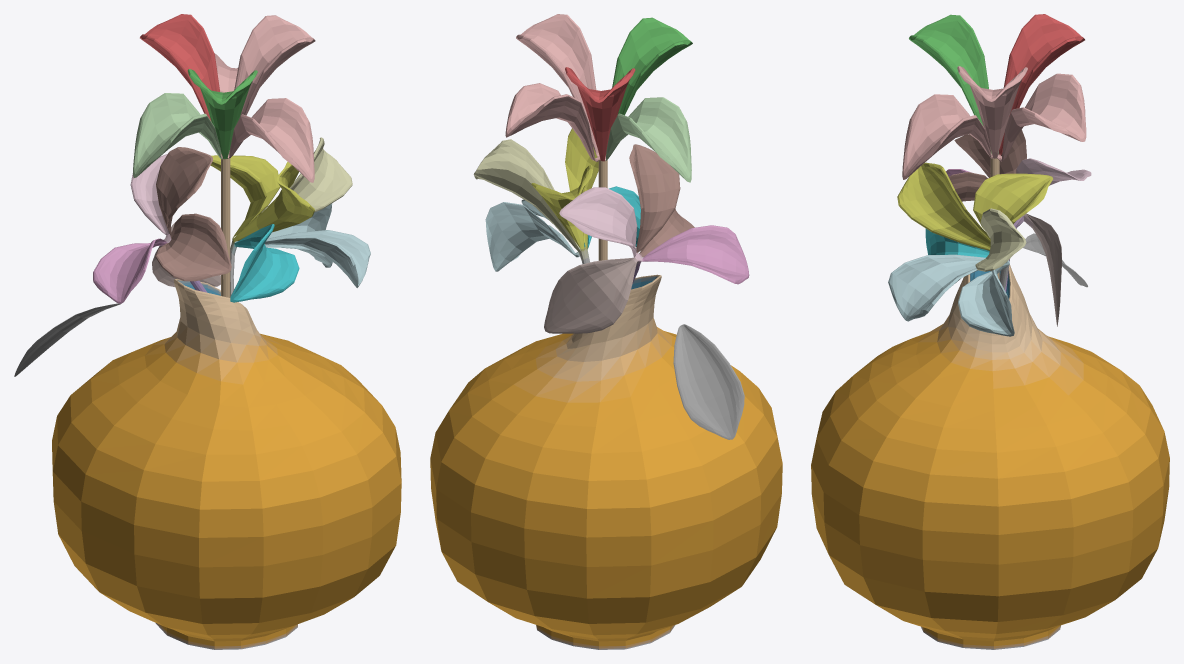
The picture shows the model from 3 angles, left to right: view 1: azimuth 30°, elevation 25°; view 2: azimuth 150°, elevation 25°; view 3: azimuth 270°, elevation 25°; orthographic projection.
Visible parts, largest first — view 1: world; view 2: world; view 3: world.
Part boxes in pixels (<box>): world: <box>14,14,401,649</box>; world: <box>430,14,782,649</box>; world: <box>811,14,1169,649</box>.
Bounding box in the file's own units: 1.05 × 1.8 × 1.01.
